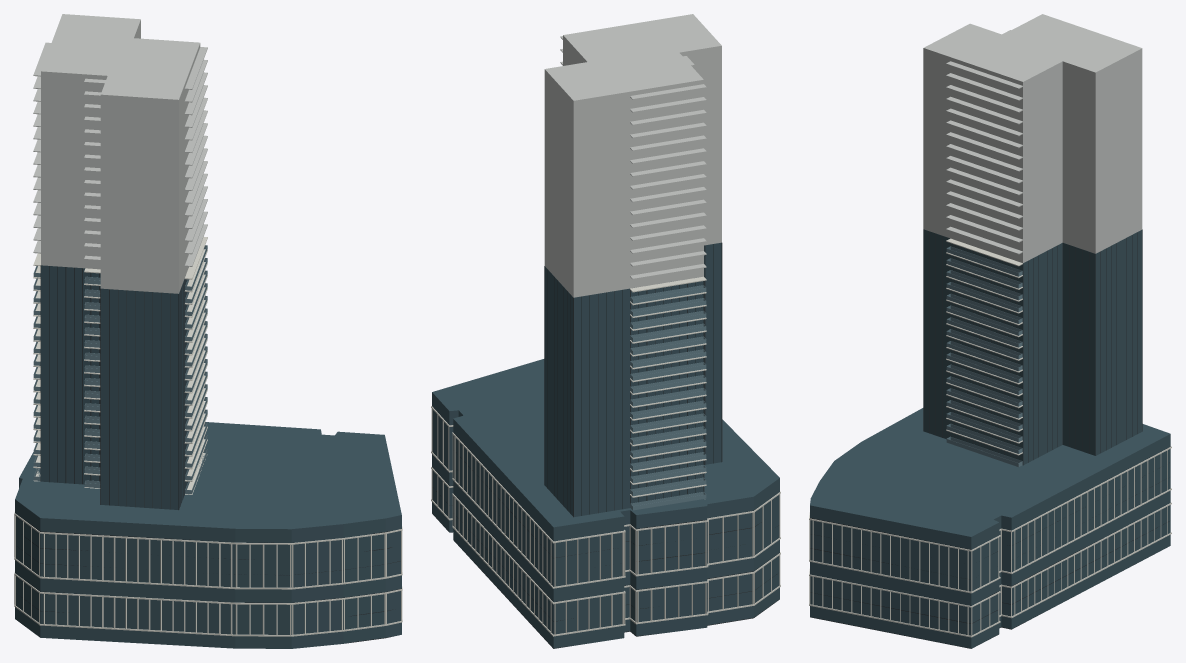
The model's file is mcity-m4-spring2026-level41-detail.glb.
3 views of the same model, side by side, from view 1: azimuth 30°, elevation 25°; view 2: azimuth 150°, elevation 25°; view 3: azimuth 270°, elevation 25° (orthographic). The views are drawn at different scales.
Parts seen in each view (by area): view 1: Inherited traced podium envelope, glazed exterior, Source S-shaped tower shell, Spring2026 recorded glazing through level26, Traced partial projecting balcony slabs | concrete, Balcony opaque guard bands, Podium vertical metal fins, Curtain wall vertical mullions, Traced partial projecting balcony slabs | white-metal, Podium stacked-volume lower frame, Podium stacked-volume upper frame, Tower floor spandrels | concrete, Podium glazing floor rails; view 2: Inherited traced podium envelope, glazed exterior, Source S-shaped tower shell, Spring2026 recorded glazing through level26, Balcony opaque guard bands, Podium vertical metal fins, Traced partial projecting balcony slabs | concrete, Curtain wall vertical mullions, Traced partial projecting balcony slabs | white-metal, Podium stacked-volume upper frame, Podium stacked-volume lower frame, Podium glazing floor rails; view 3: Inherited traced podium envelope, glazed exterior, Source S-shaped tower shell, Spring2026 recorded glazing through level26, Balcony opaque guard bands, Traced partial projecting balcony slabs | concrete, Curtain wall vertical mullions, Podium vertical metal fins, Traced partial projecting balcony slabs | white-metal, Podium stacked-volume upper frame, Podium stacked-volume lower frame, Tower floor spandrels | concrete, Podium glazing floor rails.
Boxes of the visible parts, left/top/right/bottom form: Inherited traced podium envelope, glazed exterior: left=15, top=422, right=401, bottom=648; Source S-shaped tower shell: left=41, top=14, right=200, bottom=293; Spring2026 recorded glazing through level26: left=41, top=265, right=187, bottom=509; Traced partial projecting balcony slabs | concrete: left=33, top=42, right=207, bottom=266; Balcony opaque guard bands: left=33, top=245, right=207, bottom=494; Podium vertical metal fins: left=14, top=515, right=402, bottom=635; Curtain wall vertical mullions: left=40, top=265, right=187, bottom=509; Traced partial projecting balcony slabs | white-metal: left=33, top=237, right=207, bottom=494; Podium stacked-volume lower frame: left=14, top=557, right=402, bottom=636; Podium stacked-volume upper frame: left=14, top=512, right=402, bottom=604; Tower floor spandrels | concrete: left=41, top=75, right=184, bottom=281; Podium glazing floor rails: left=16, top=520, right=401, bottom=643; Inherited traced podium envelope, glazed exterior: left=432, top=359, right=779, bottom=648; Source S-shaped tower shell: left=544, top=14, right=721, bottom=297; Spring2026 recorded glazing through level26: left=544, top=242, right=721, bottom=516; Balcony opaque guard bands: left=630, top=285, right=706, bottom=510; Podium vertical metal fins: left=431, top=408, right=780, bottom=634; Traced partial projecting balcony slabs | concrete: left=560, top=36, right=706, bottom=279; Curtain wall vertical mullions: left=544, top=243, right=722, bottom=517; Traced partial projecting balcony slabs | white-metal: left=630, top=276, right=706, bottom=497; Podium stacked-volume upper frame: left=431, top=406, right=780, bottom=604; Podium stacked-volume lower frame: left=431, top=451, right=780, bottom=636; Podium glazing floor rails: left=432, top=433, right=779, bottom=648; Inherited traced podium envelope, glazed exterior: left=810, top=408, right=1170, bottom=648; Source S-shaped tower shell: left=923, top=14, right=1142, bottom=262; Spring2026 recorded glazing through level26: left=923, top=229, right=1142, bottom=464; Balcony opaque guard bands: left=946, top=246, right=1022, bottom=466; Traced partial projecting balcony slabs | concrete: left=946, top=30, right=1022, bottom=254; Curtain wall vertical mullions: left=923, top=229, right=1142, bottom=465; Podium vertical metal fins: left=809, top=450, right=1167, bottom=635; Traced partial projecting balcony slabs | white-metal: left=946, top=238, right=1022, bottom=455; Podium stacked-volume upper frame: left=809, top=446, right=1171, bottom=607; Podium stacked-volume lower frame: left=809, top=488, right=1171, bottom=637; Tower floor spandrels | concrete: left=923, top=53, right=1142, bottom=251; Podium glazing floor rails: left=810, top=448, right=1169, bottom=648.
Size of the model in its own units: 84.3 by 124 by 82.07.
